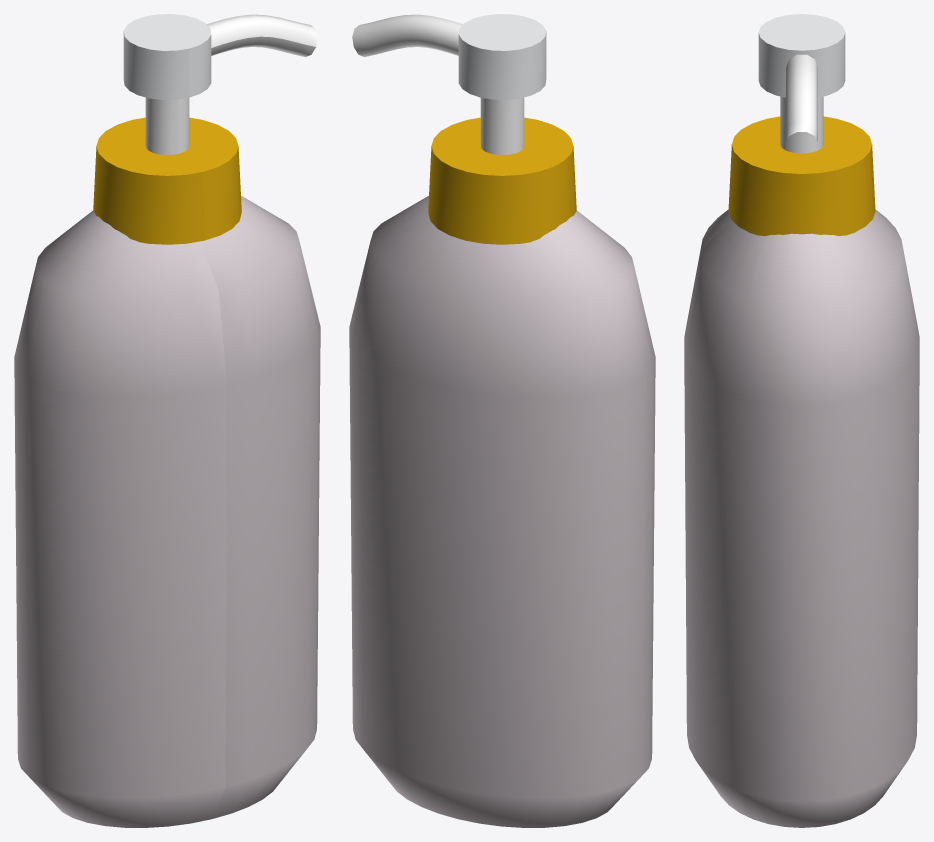
The model's file is lotion-pump.glb.
The picture shows the model from 3 angles, left to right: view 1: azimuth 30°, elevation 25°; view 2: azimuth 150°, elevation 25°; view 3: azimuth 270°, elevation 25°; orthographic projection.
Visible parts, largest first — view 1: Lotion_Body, Pump_Collar, Pump_Head, Pump_Spout, Pump_Stem; view 2: Lotion_Body, Pump_Collar, Pump_Head, Pump_Spout, Pump_Stem; view 3: Lotion_Body, Pump_Collar, Pump_Head, Pump_Spout, Pump_Stem.
Boxes of the visible parts, x1,y1,x2,y2 form: Lotion_Body: [14, 195, 320, 827]; Pump_Collar: [93, 117, 241, 244]; Pump_Head: [123, 14, 211, 99]; Pump_Spout: [207, 14, 317, 56]; Pump_Stem: [145, 97, 189, 154]; Lotion_Body: [349, 195, 655, 827]; Pump_Collar: [428, 117, 576, 244]; Pump_Head: [458, 14, 546, 99]; Pump_Spout: [352, 14, 462, 56]; Pump_Stem: [480, 97, 524, 154]; Lotion_Body: [684, 209, 919, 827]; Pump_Collar: [728, 116, 875, 235]; Pump_Head: [758, 14, 845, 97]; Pump_Spout: [786, 54, 817, 141]; Pump_Stem: [780, 96, 823, 153].
Bounding box in the file's own units: 0.0979 × 0.246 × 0.0705.
